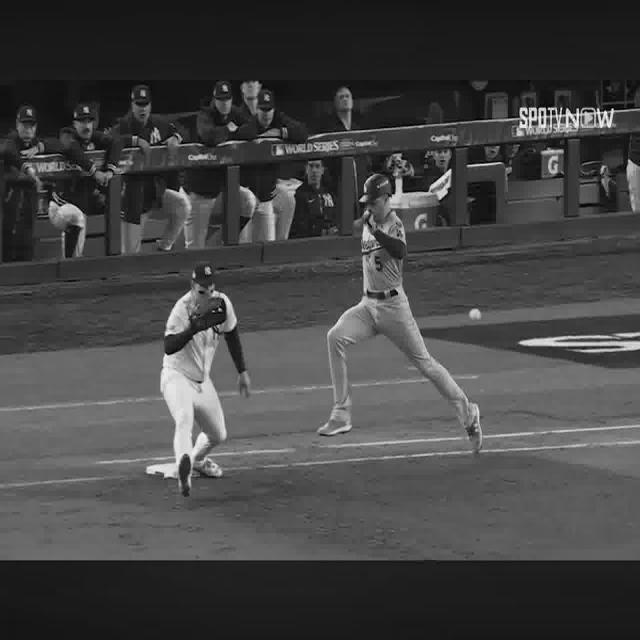base: (145, 463, 176, 478)
baseball: (471, 310, 480, 320)
baseball_glove: (190, 298, 226, 333)
shoe: (466, 403, 484, 453), (318, 412, 351, 437), (194, 458, 224, 478), (181, 453, 191, 494)
